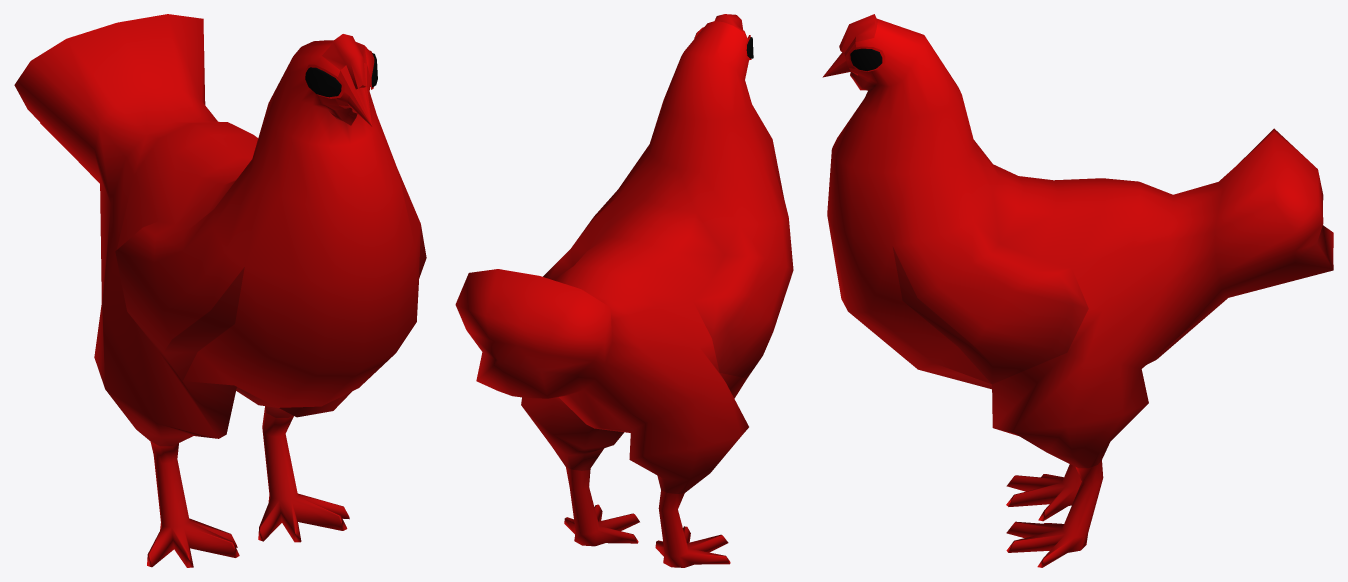
The model's file is chicken.fbx.
3 renders of one model, left to right at view 1: azimuth 30°, elevation 25°; view 2: azimuth 150°, elevation 25°; view 3: azimuth 270°, elevation 25°, orthographic. The views are drawn at different scales.
Visible parts, largest first — view 1: chicken; view 2: chicken; view 3: chicken.
Boxes of the visible parts, left/top/right/bottom form: chicken: left=14, top=14, right=426, bottom=567; chicken: left=455, top=14, right=793, bottom=567; chicken: left=822, top=14, right=1333, bottom=567.
Bounding box in the file's own units: 303 × 588 × 649.
